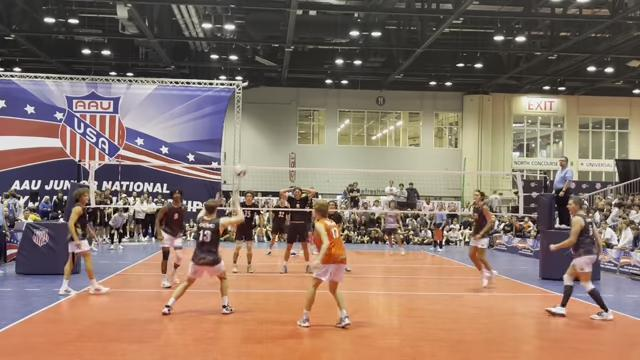ricezione: (161, 188, 248, 316)
